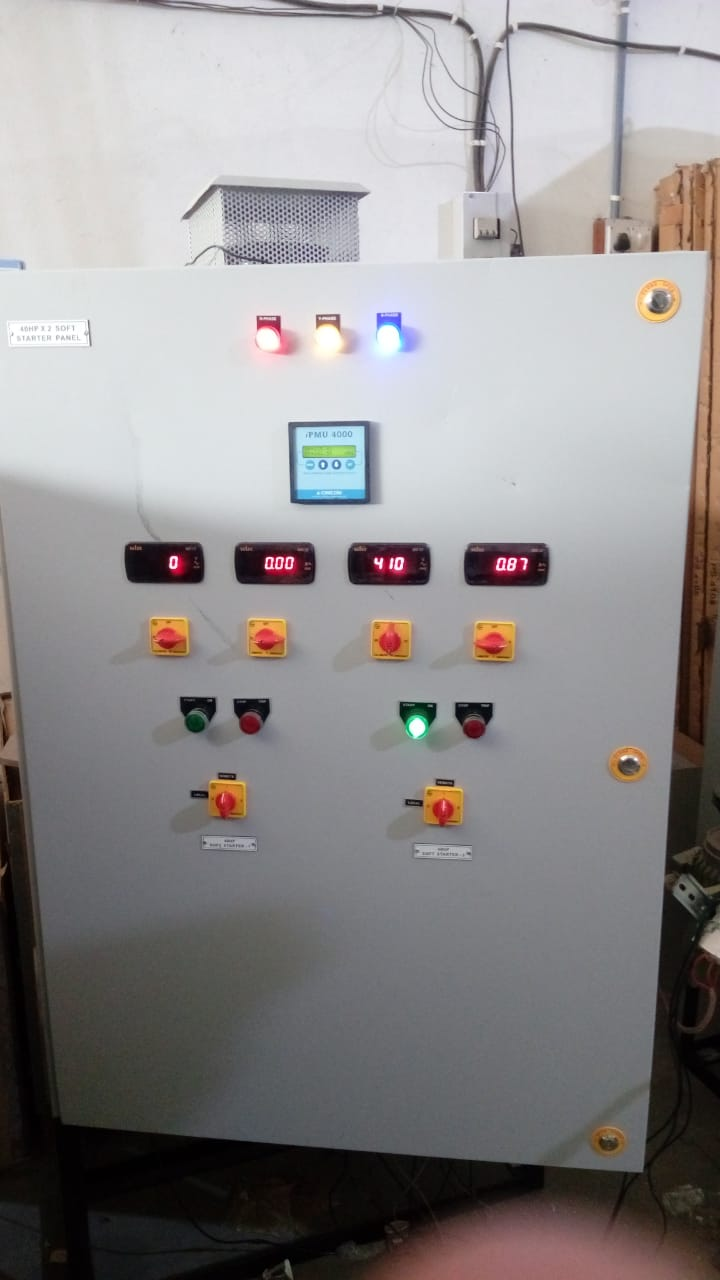Blue_Led_On: (368, 312, 413, 366)
Green_Led_Off: (174, 702, 217, 738)
Green_Led_On: (397, 705, 442, 745)
Red_Led_Off: (228, 699, 278, 739), (452, 706, 496, 746)
Red_Led_On: (249, 313, 289, 362)
Yellow_Led_On: (308, 321, 349, 362)
